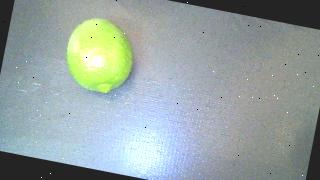EXPORTACION: (60, 13, 139, 97)
